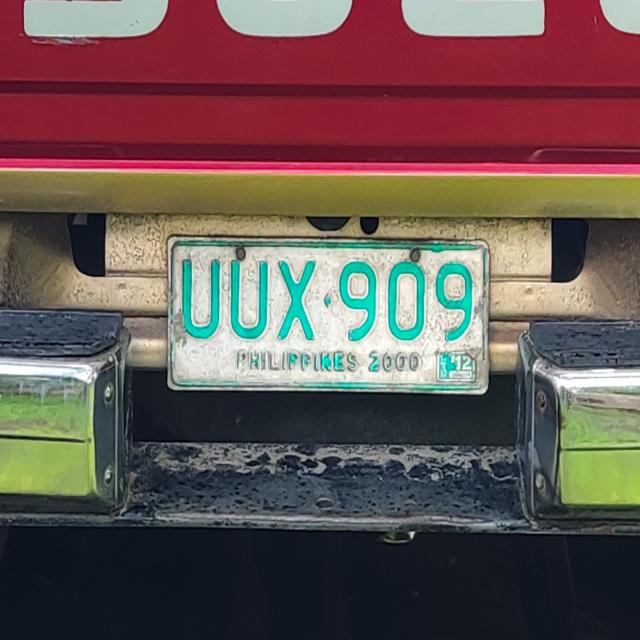plate: (163, 230, 494, 398)
